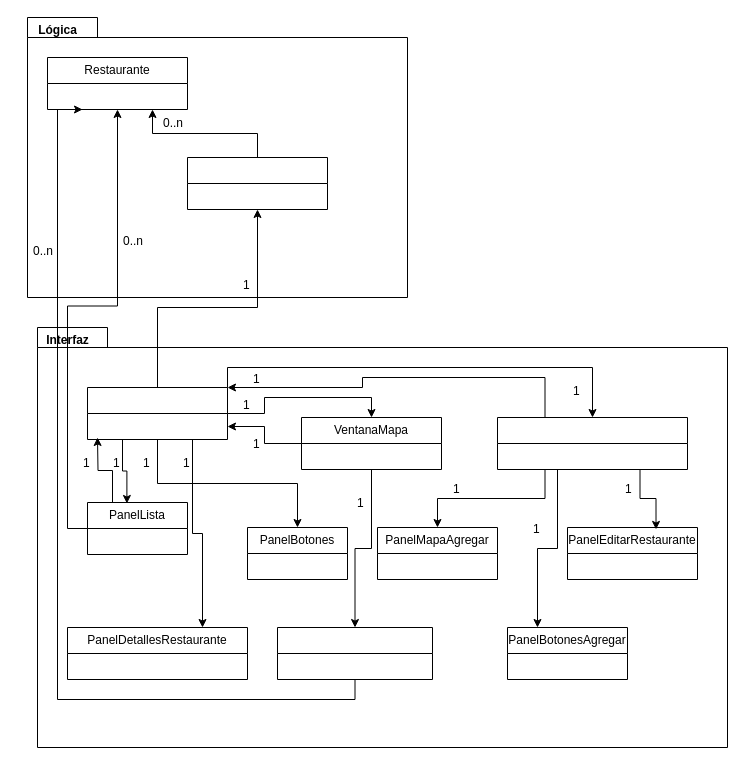
The diagram is 745 pixels wide and 765 high, and some of its shapes have lost their labels. The shapes that lost their labels are listed below. From the top down, each one's box as (x1, y1, x2, y2) in pixels, then its label:
(186, 156, 328, 210): Diario
(86, 386, 228, 440): VentanaPrincipal
(496, 416, 688, 470): VentanaAgregarRestaurante
(276, 626, 432, 680): PanelMapaVizualizar
